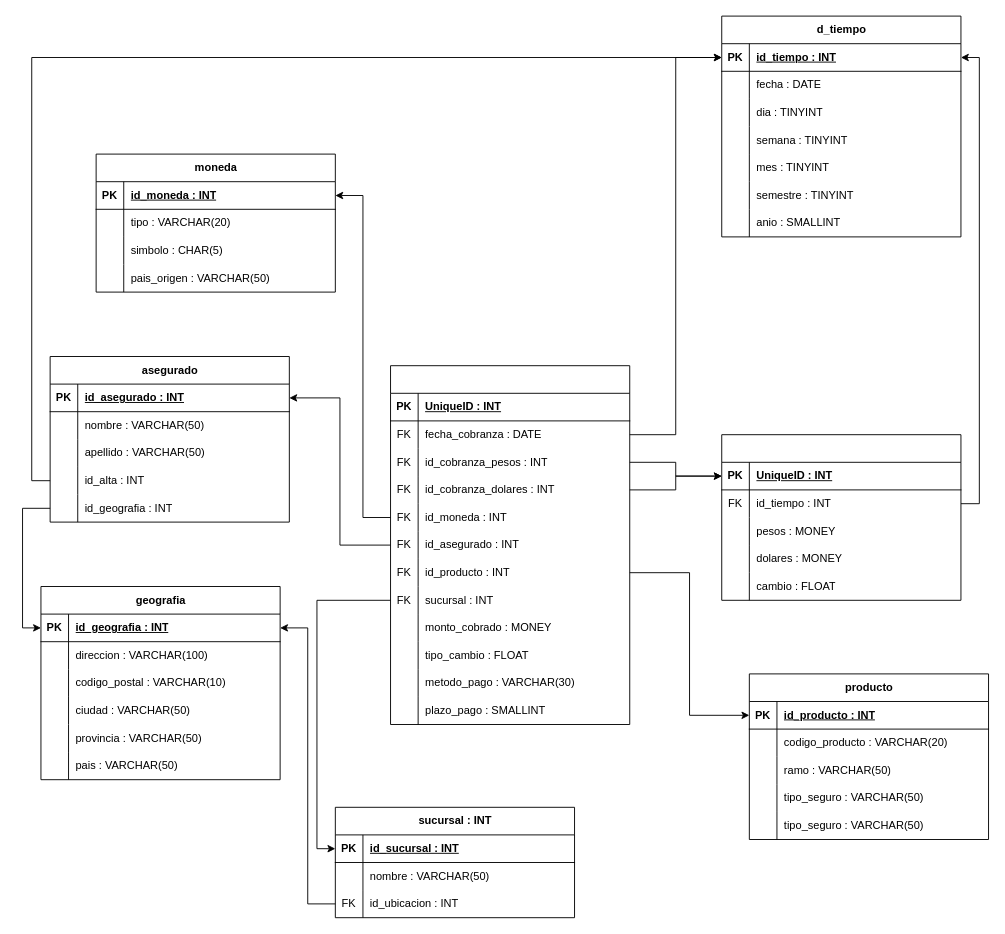
The diagram is 1005 pixels wide and 934 high, and some of its shapes have lost their labels. Each missing label, with the box of its shape:
f_Cobranza: (390, 365, 630, 724)
tipo_moneda: (721, 434, 961, 600)
